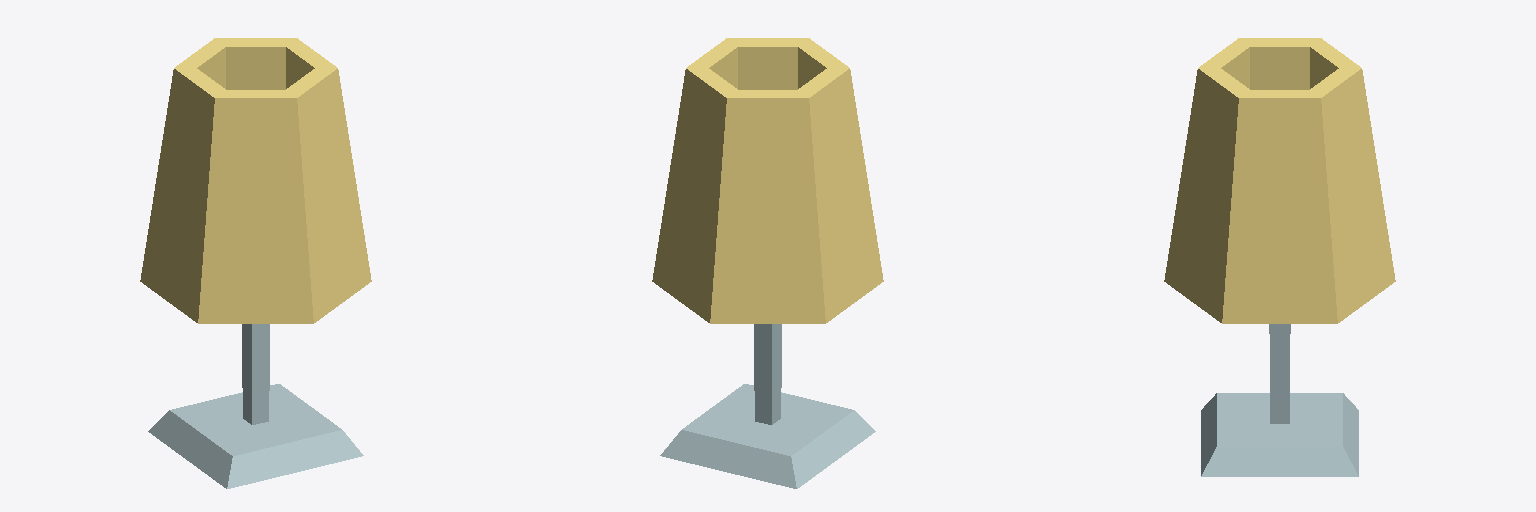
The model's file is lamp.obj.
3 renders of one model, left to right at view 1: azimuth 30°, elevation 25°; view 2: azimuth 150°, elevation 25°; view 3: azimuth 270°, elevation 25°, orthographic.
Parts seen in each view (by area): view 1: lampRoundTable; view 2: lampRoundTable; view 3: lampRoundTable.
Boxes of the visible parts, x1=… form: lampRoundTable: x1=140, y1=38, x2=371, y2=488; lampRoundTable: x1=652, y1=38, x2=883, y2=488; lampRoundTable: x1=1164, y1=38, x2=1395, y2=476.
Size of the model in its own units: 1.61 by 3.33 by 1.86.